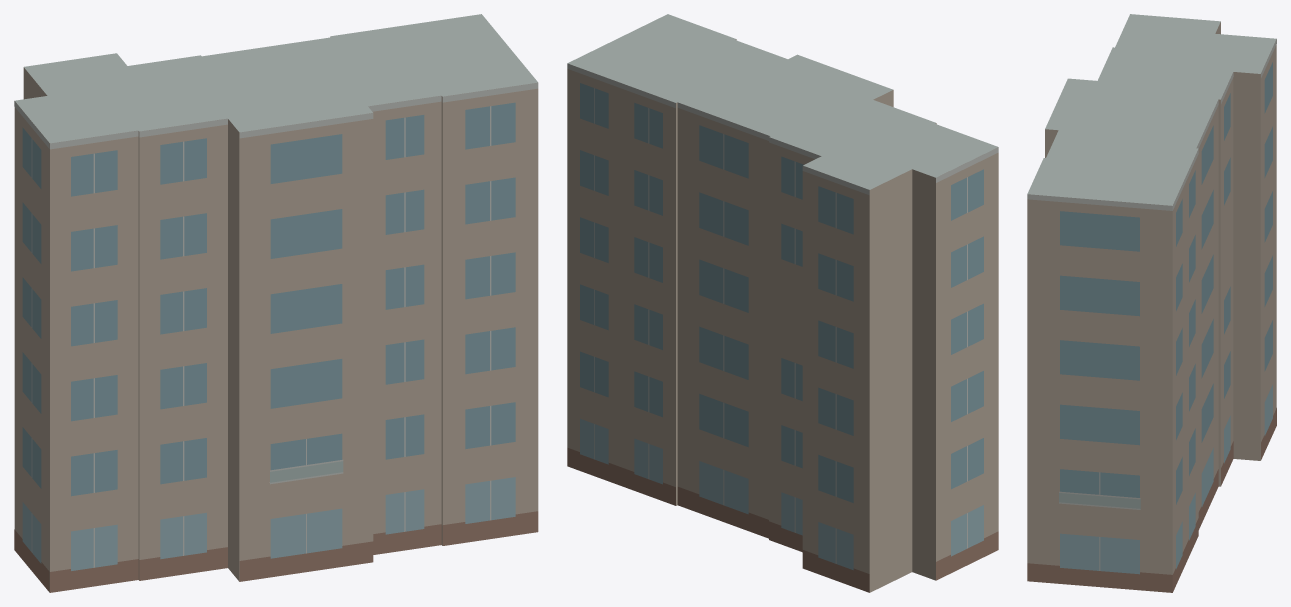
The model's file is survey-upis-32671749.glb.
3 views of the same model, side by side, from view 1: azimuth 30°, elevation 25°; view 2: azimuth 150°, elevation 25°; view 3: azimuth 270°, elevation 25° (orthographic). The views are drawn at different scales.
Visible parts, largest first — view 1: survey-upis-32671749.tmp; view 2: survey-upis-32671749.tmp; view 3: survey-upis-32671749.tmp.
Boxes of the visible parts, x1=… form: survey-upis-32671749.tmp: x1=14, y1=14, x2=538, y2=592; survey-upis-32671749.tmp: x1=567, y1=14, x2=998, y2=592; survey-upis-32671749.tmp: x1=1027, y1=14, x2=1276, y2=592.
Bounding box in the file's own units: 19.47 × 18.3 × 10.7.
